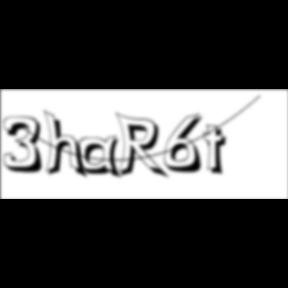3: (4, 116, 50, 176)
6: (164, 112, 210, 176)
R: (116, 112, 172, 182)
a: (78, 135, 126, 182)
h: (44, 108, 92, 182)
t: (204, 124, 234, 179)
